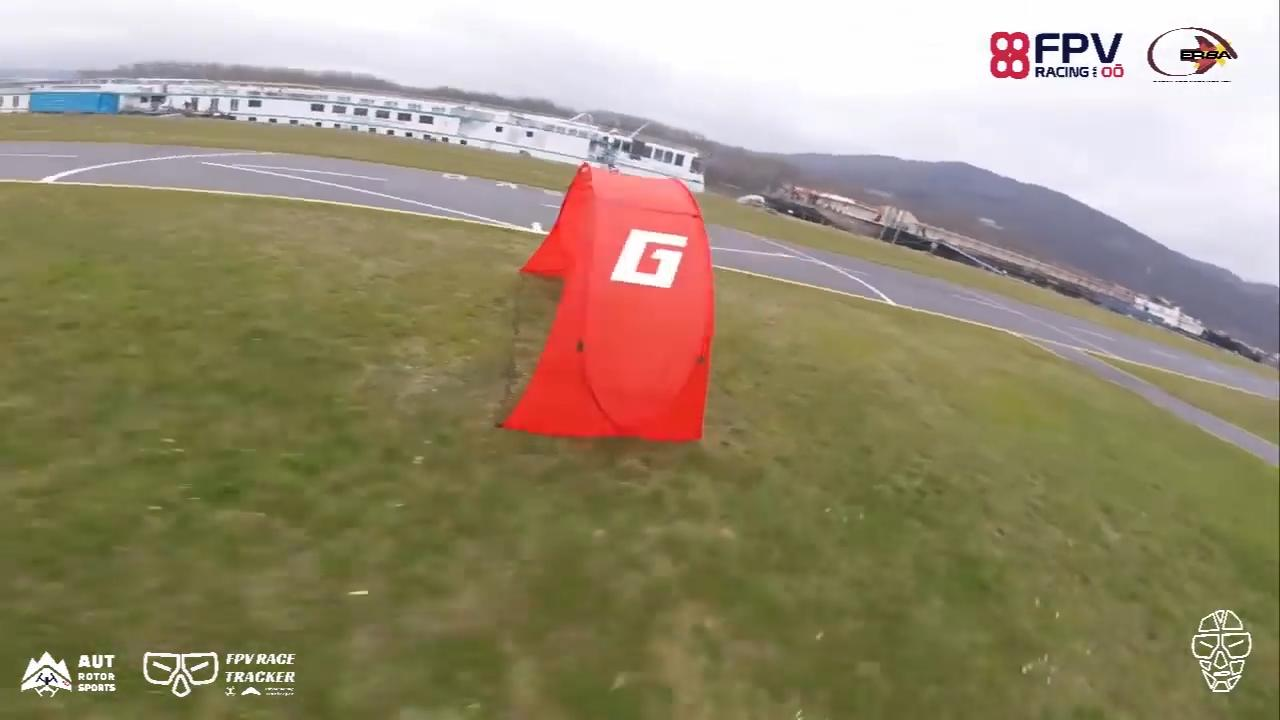gate: (500, 162, 714, 447)
